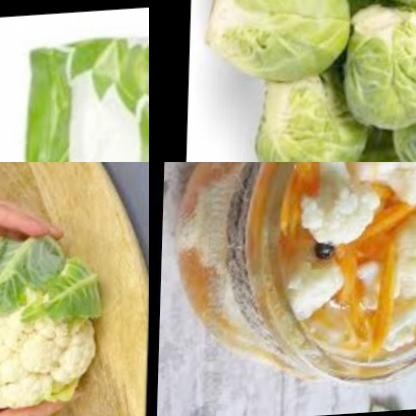brus capusta: (215, 25, 372, 162), (203, 0, 368, 88), (354, 10, 416, 122), (374, 33, 416, 162)
carrot: (361, 204, 416, 270), (278, 164, 328, 225)
cayliflower: (0, 243, 100, 416), (299, 162, 386, 251), (376, 201, 416, 342), (284, 268, 355, 330), (367, 162, 416, 207)
